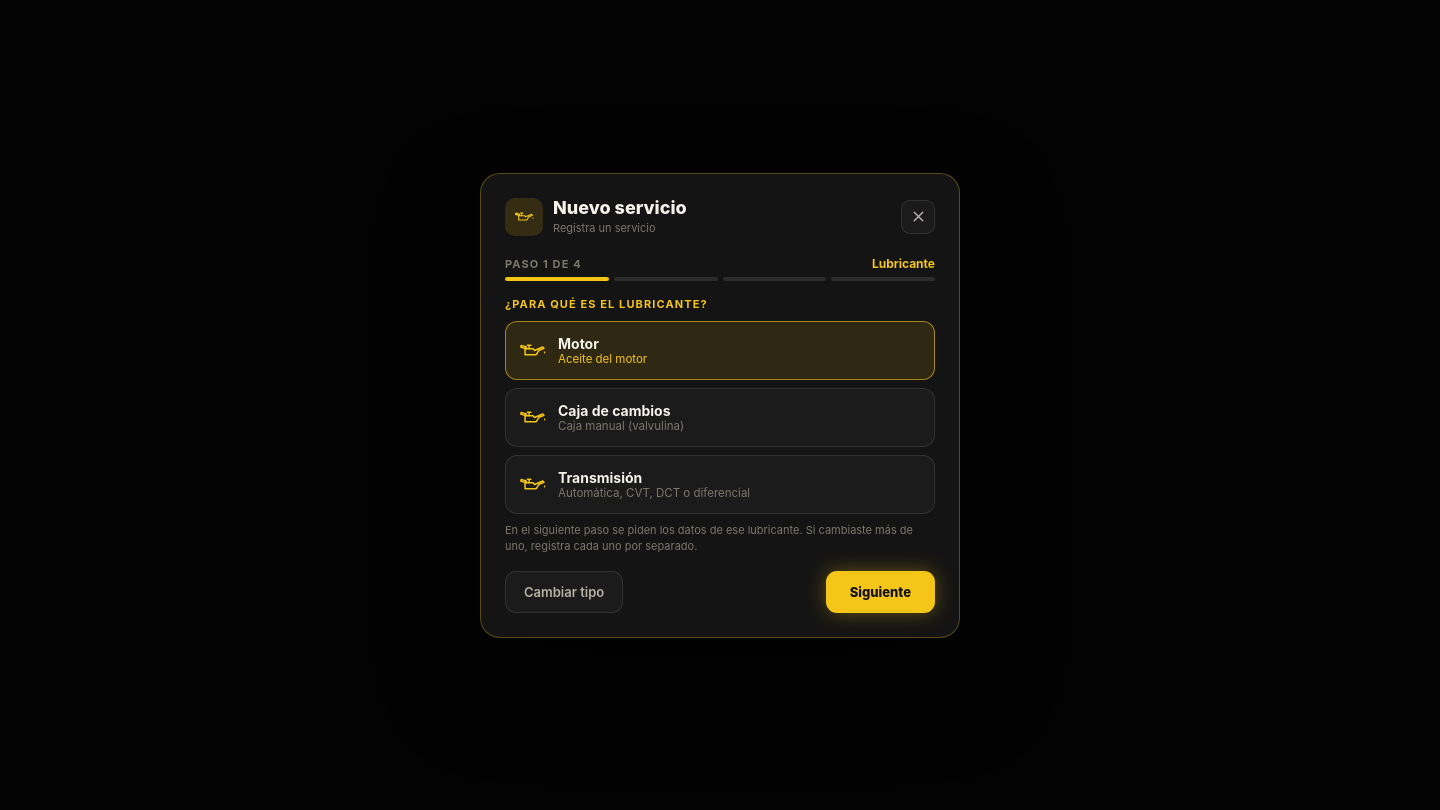
Test: Registrar servicio > Aceite (primer paso: tipo de lubricante) › transmisión pide el tipo de fluido (ATF, CVT, DCT...)
Click the radio button labelled "Transmisión Automática, CVT, DCT o diferencial" at (720, 484), box [505,454,935,514]
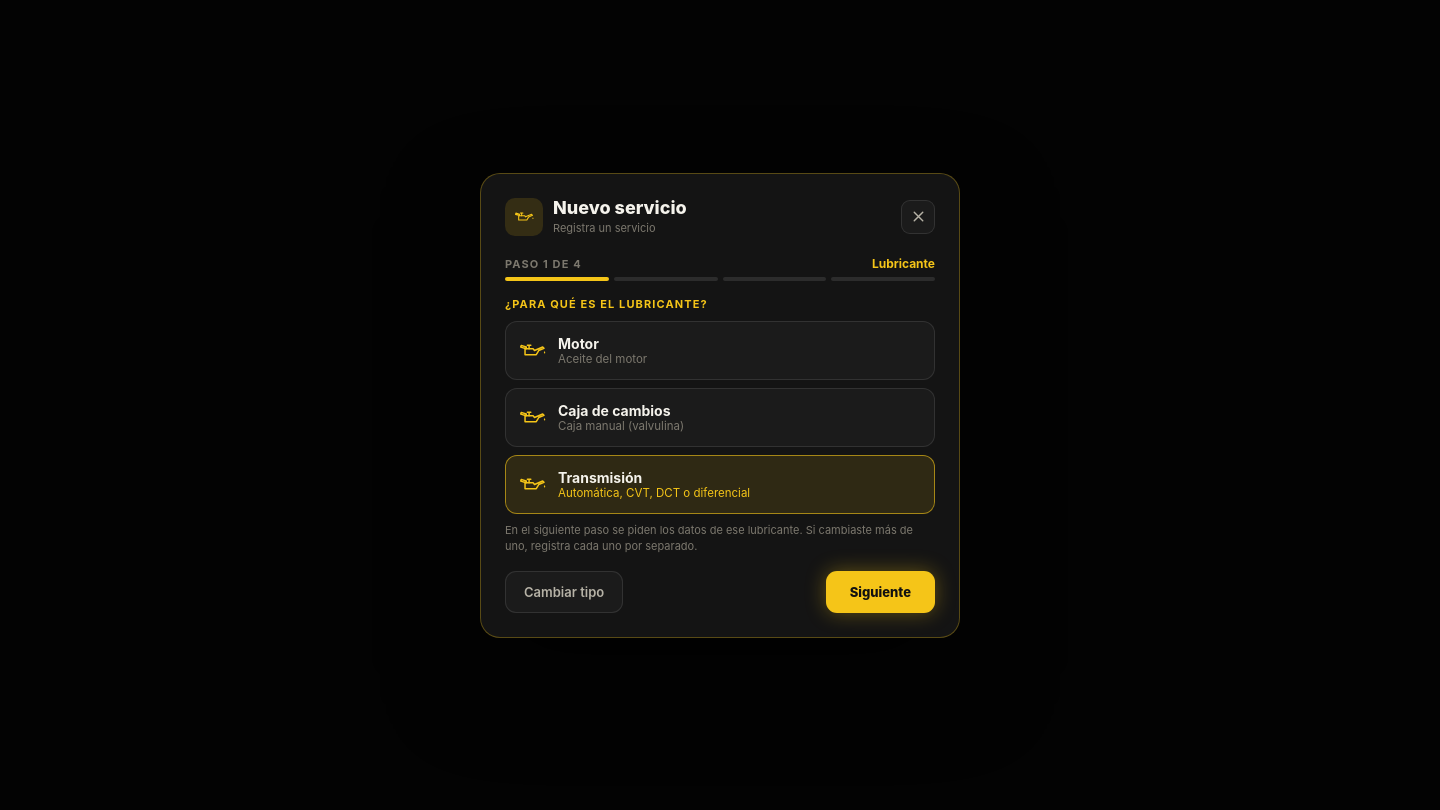
Click the button "Siguiente" at (880, 592), box [826,570,935,612]
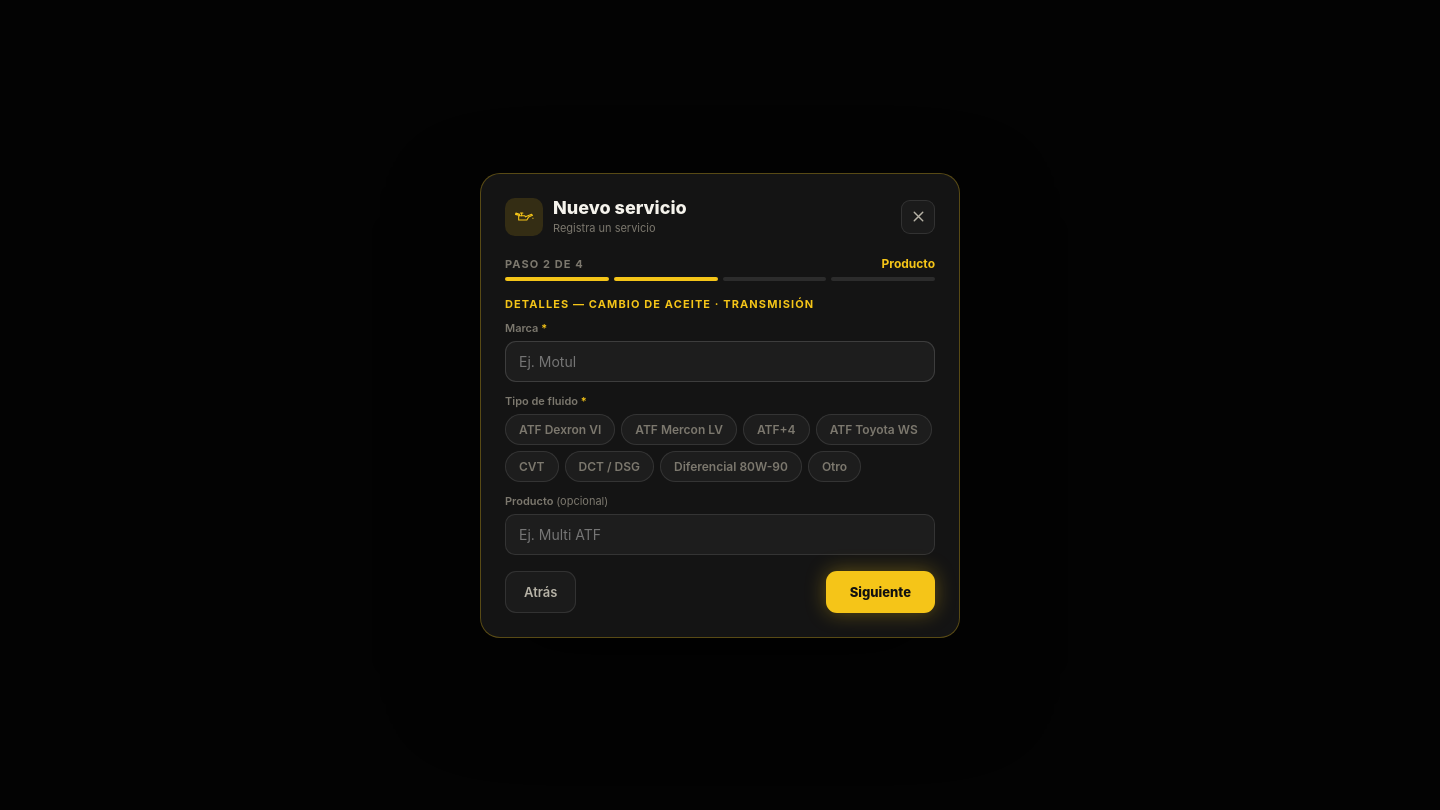
Expected: the radio button "CVT" is shown, [505,450,558,482]
Now the radio button "ATF Dexron VI" is shown, box [505,414,615,444]
Now the radio button "DCT / DSG" is shown, box [564,450,654,482]
Click the button "Siguiente" at (880, 592), box [826,570,935,612]
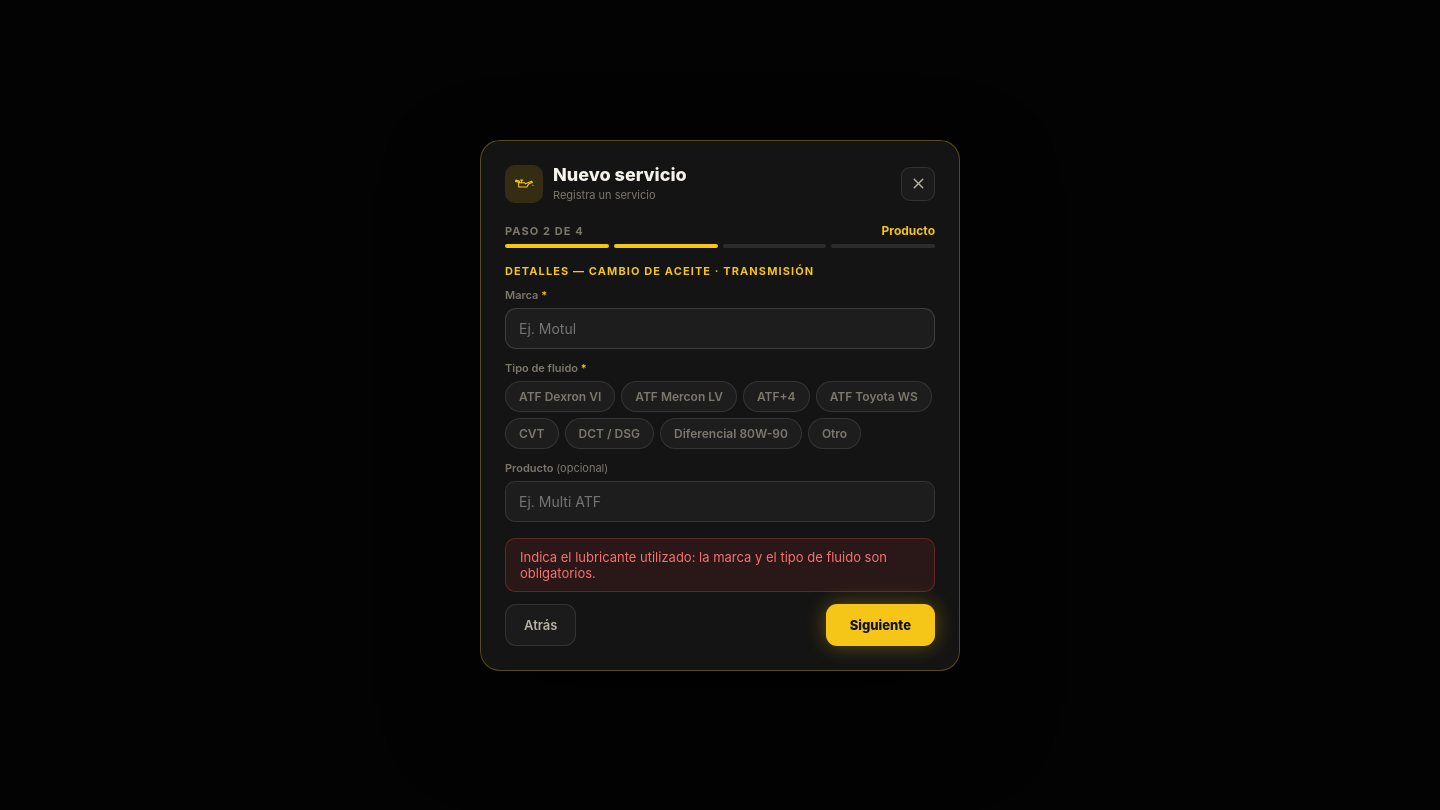
Now the text "Indica el lubricante utilizado" is shown, box [520,548,887,580]
